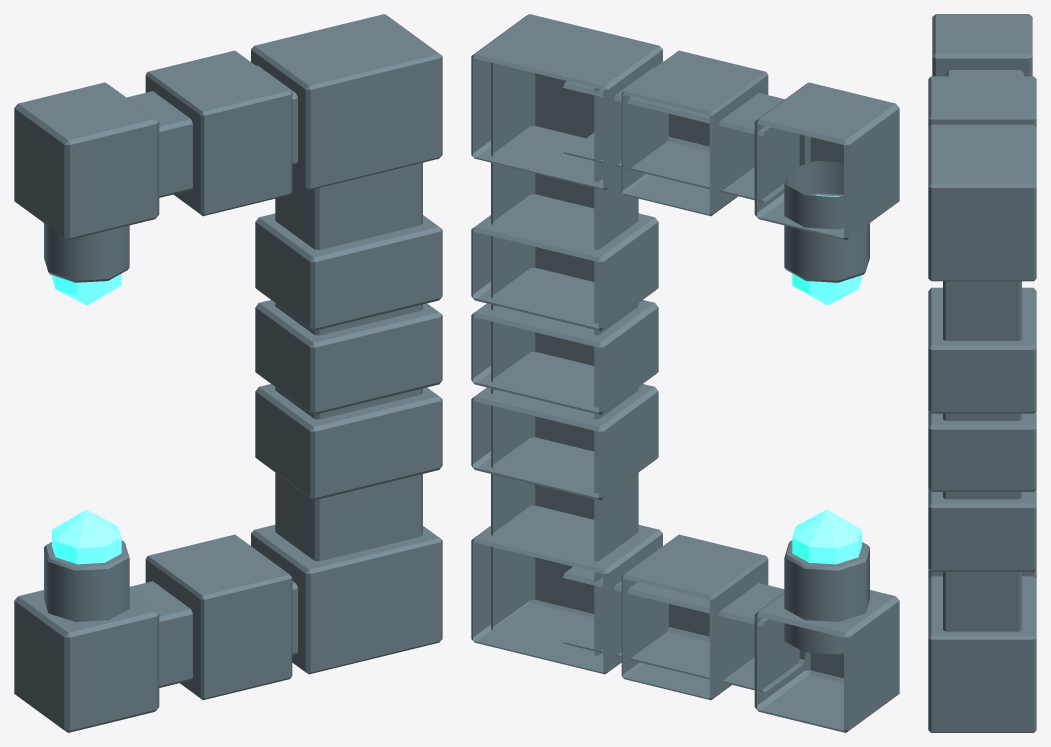
Rendered from VictoryGrab.fbx.
The picture shows the model from 3 angles, left to right: view 1: azimuth 30°, elevation 25°; view 2: azimuth 150°, elevation 25°; view 3: azimuth 270°, elevation 25°; orthographic projection. The views are drawn at different scales.
Parts seen in each view (by area): view 1: polySurface11; view 2: polySurface11; view 3: polySurface11.
Part boxes in pixels (box(x1,y1,x2,y2)): polySurface11: box(14, 14, 442, 732); polySurface11: box(471, 14, 899, 732); polySurface11: box(928, 14, 1036, 732).
Size of the model in its own units: 399 by 601 by 106.
